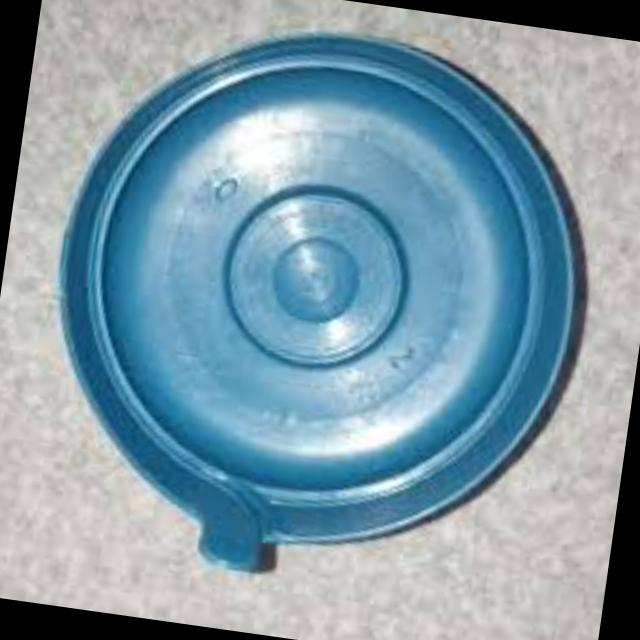TutupGalon: (16, 0, 622, 619)
